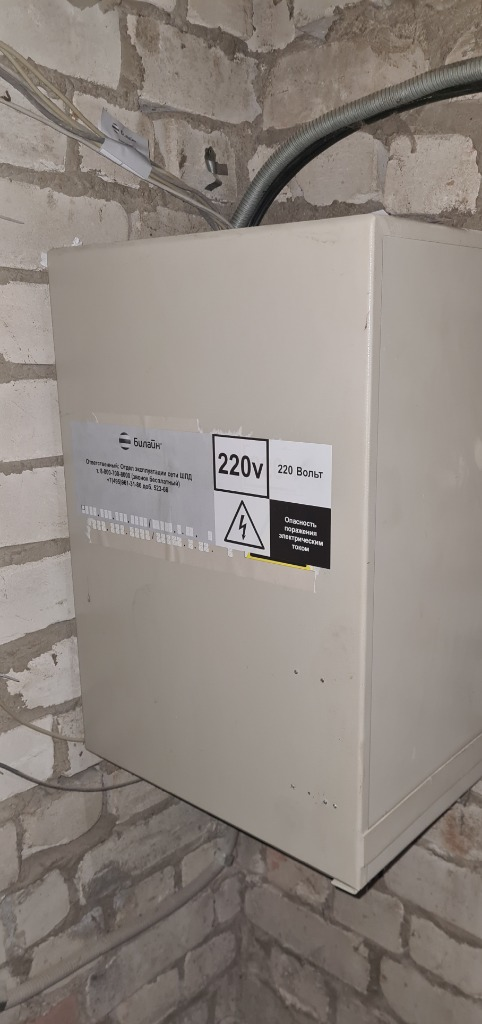sv-5: (42, 189, 479, 908)
